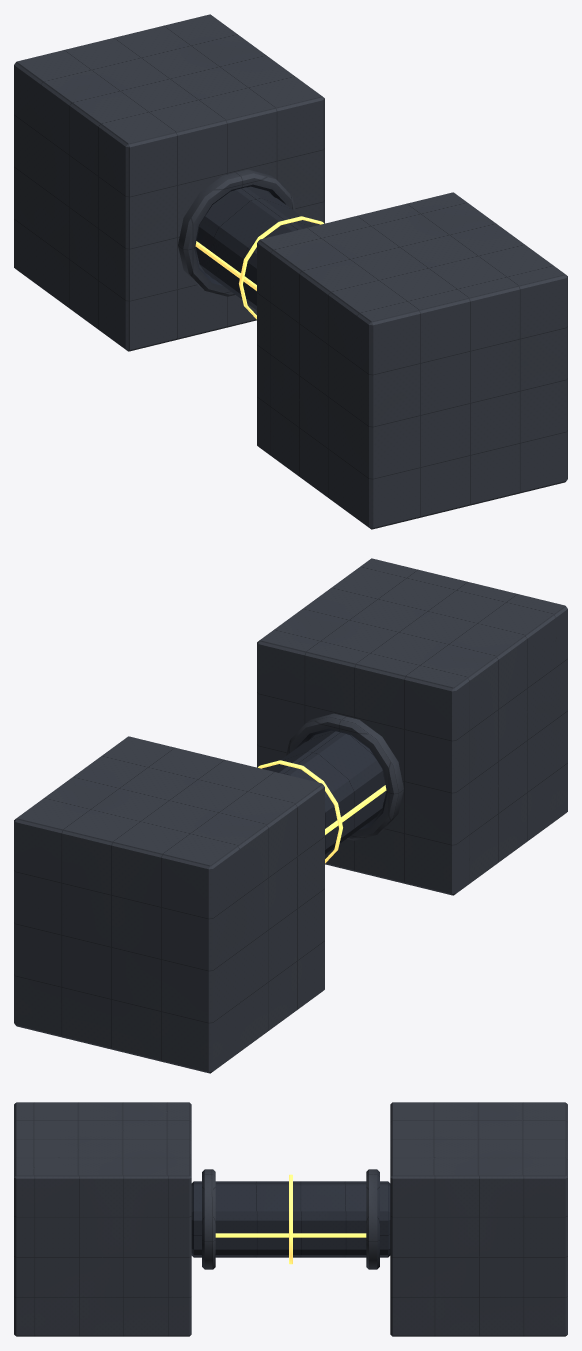
File: R4C_STRUT_STANDARD_LOD1.glb
3 views of the same model, one above another, from view 1: azimuth 30°, elevation 25°; view 2: azimuth 150°, elevation 25°; view 3: azimuth 270°, elevation 25° (orthographic). The views are drawn at different scales.
Visible parts, largest first — view 1: R4C_STRUT_STANDARD_LOD1; view 2: R4C_STRUT_STANDARD_LOD1; view 3: R4C_STRUT_STANDARD_LOD1.
Part boxes in pixels (x1,y1,x2,y2): R4C_STRUT_STANDARD_LOD1: (14,14,567,529); R4C_STRUT_STANDARD_LOD1: (14,558,567,1073); R4C_STRUT_STANDARD_LOD1: (14,1102,567,1336).
Bounding box in the file's own units: 0.52 × 0.52 × 1.62.
Materials: 3 (2 with a texture image).
